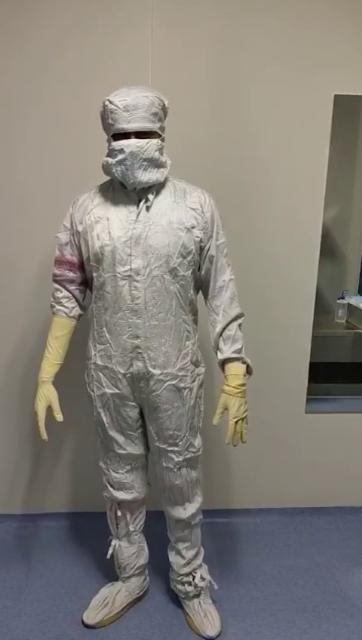boot_not_secured: (159, 508, 232, 640)
boot_secured: (78, 484, 150, 636)
gloves_fitted_securely: (28, 290, 94, 448)
gloves_not_fitted_securely: (206, 347, 262, 451)
headgear_secured: (98, 82, 182, 200)
zip_not_secured: (124, 176, 156, 234)
